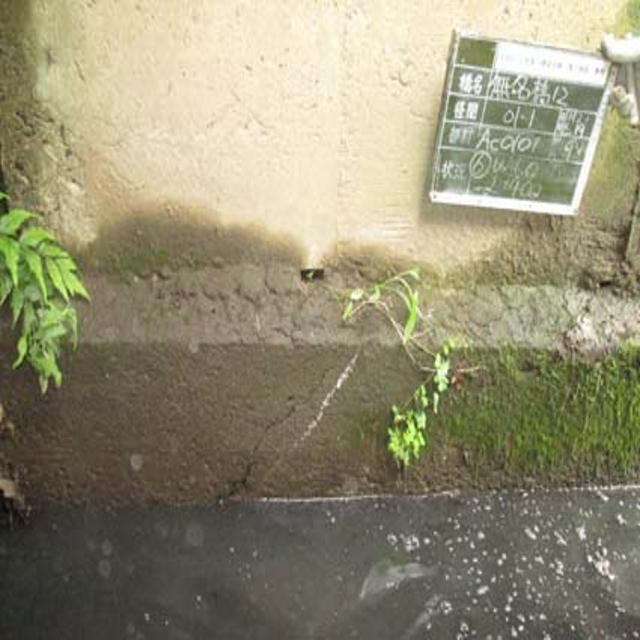crack: (223, 356, 357, 504)
